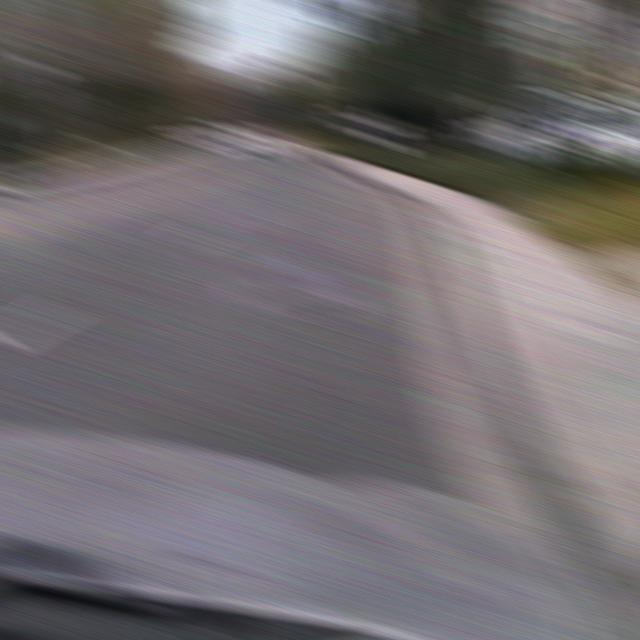speedLimit35: (509, 4, 558, 62)
